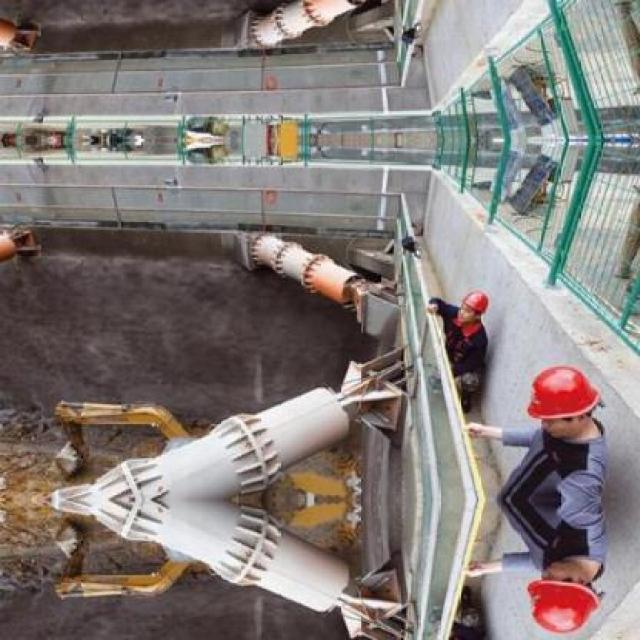helmet: (520, 358, 606, 445), (520, 554, 608, 637), (454, 284, 491, 325)
